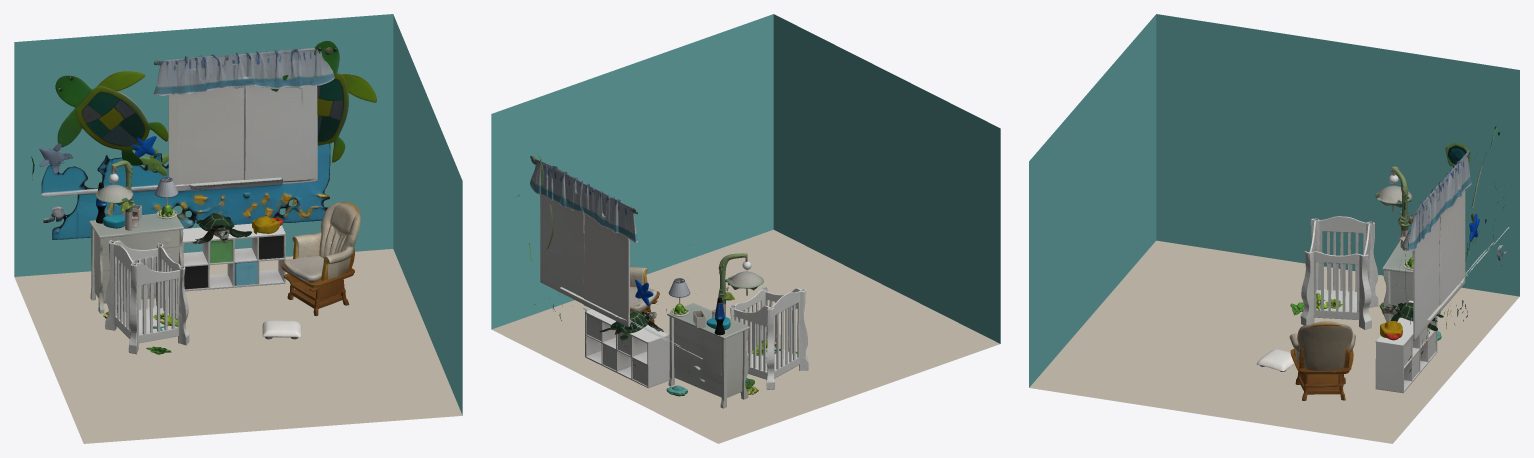
Rendered from mit-nursery-nursery.glb.
3 views of the same model, side by side, from view 1: azimuth 30°, elevation 25°; view 2: azimuth 150°, elevation 25°; view 3: azimuth 270°, elevation 25° (orthographic). The views are drawn at different scales.
Parts seen in each view (by area): view 1: Wall_01, Floor, world_1.002, Wall_04, world.005, world.020, world.010, world.002, world.016, world.001, world.019, world.012 (+1 smaller); view 2: Wall_04, Wall_03, Floor, world_1.002, world.002, world.005, world.010, world.016, world.020, world.001, Wall_01, world.012; view 3: Wall_02, Floor, Wall_03, world_1.002, world.005, world.020, world.010, world.002, world.016, Wall_01, world.019, world.001.
Boxes of the visible parts, <box> form: Wall_01: <box>14,14,393,276</box>; Floor: <box>14,249,462,443</box>; world_1.002: <box>153,47,334,184</box>; Wall_04: <box>393,15,462,415</box>; world.005: <box>105,240,189,354</box>; world.020: <box>280,201,360,316</box>; world.010: <box>182,223,285,291</box>; world.002: <box>89,213,184,313</box>; world.016: <box>95,160,138,230</box>; world.001: <box>192,213,251,243</box>; world.019: <box>262,320,301,339</box>; world.012: <box>155,177,178,219</box>; Wall_04: <box>491,14,773,329</box>; Wall_03: <box>773,14,1000,343</box>; Floor: <box>492,229,999,443</box>; world_1.002: <box>530,156,637,327</box>; world.002: <box>667,303,749,408</box>; world.005: <box>729,287,808,389</box>; world.010: <box>585,309,669,388</box>; world.016: <box>712,253,763,317</box>; world.020: <box>630,266,659,323</box>; world.001: <box>599,311,663,339</box>; Wall_01: <box>517,153,705,386</box>; world.012: <box>668,278,690,316</box>; Wall_02: <box>1156,14,1519,296</box>; Floor: <box>1029,240,1519,443</box>; Wall_03: <box>1029,14,1156,387</box>; world_1.002: <box>1407,150,1471,340</box>; world.005: <box>1300,216,1378,329</box>; world.020: <box>1289,321,1355,400</box>; world.010: <box>1375,300,1437,393</box>; world.002: <box>1382,240,1440,321</box>; world.016: <box>1375,166,1412,250</box>; Wall_01: <box>1396,123,1509,372</box>; world.019: <box>1256,349,1294,371</box>; world.001: <box>1381,302,1443,330</box>.
Size of the model in its own units: 5.43 by 2.83 by 5.54.
Materials: 36 (30 with a texture image).
